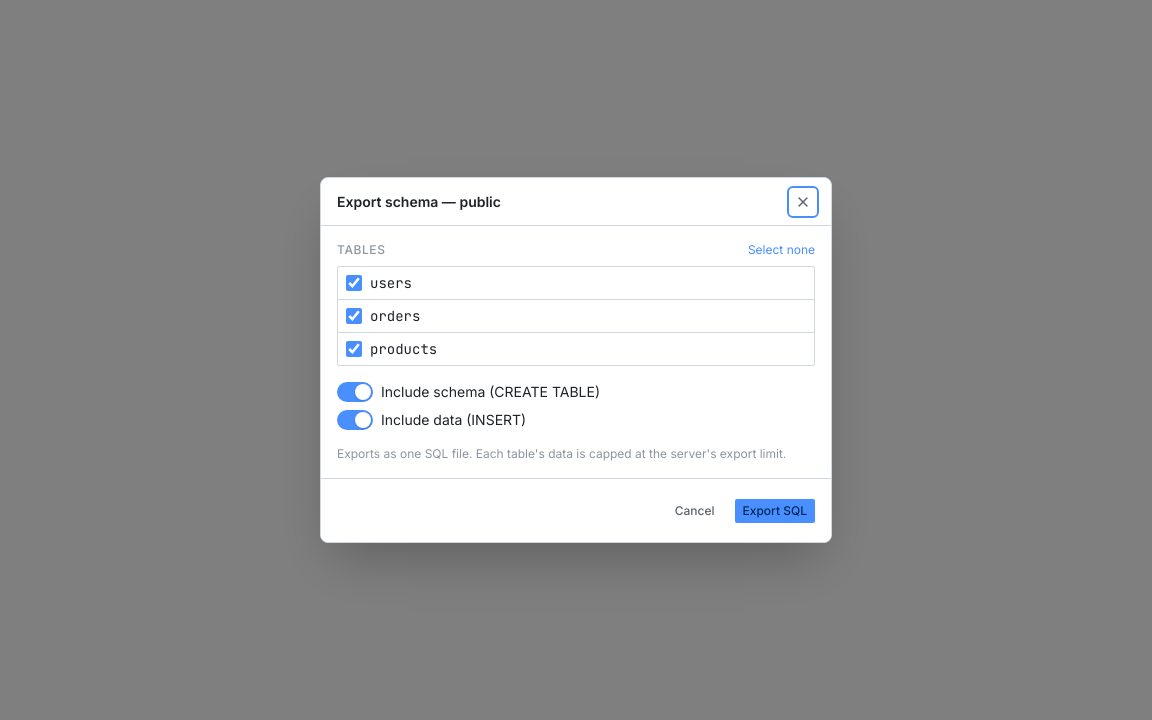
SchemaExportDialog › select-none then re-selecting all toggles the whole list
The width and height of the screenshot is (1152, 720).
Click the button "Select none" at (781, 250), box [748,242,815,258]
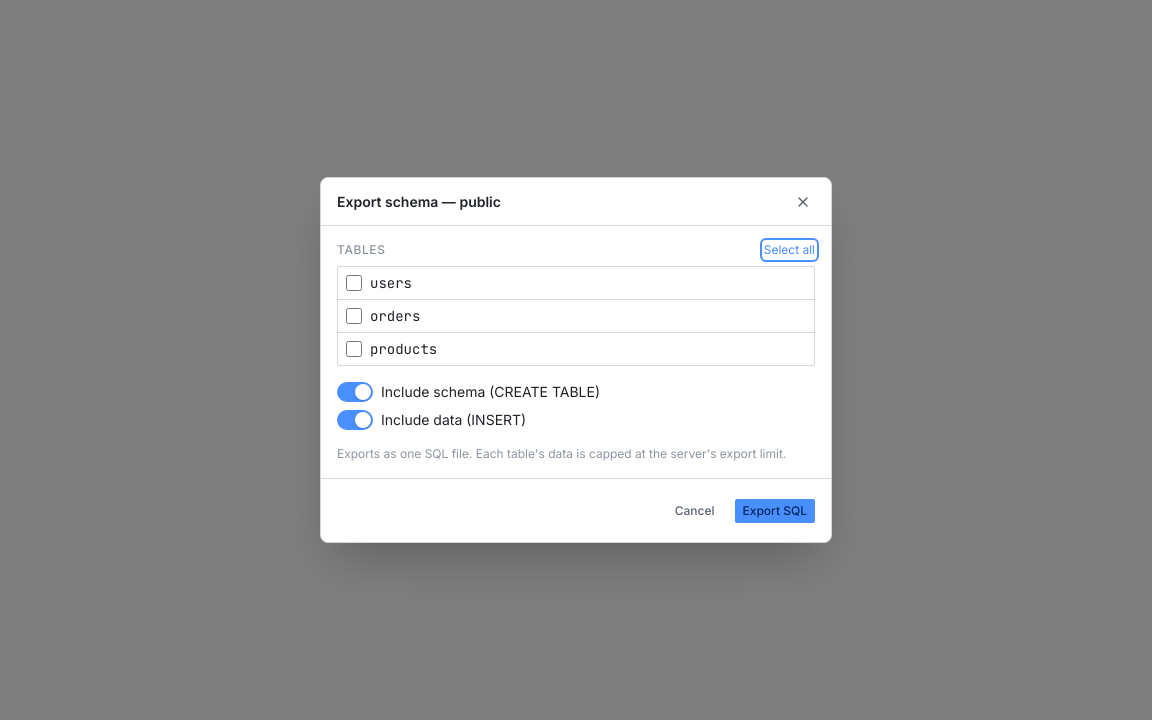
// With nothing selected, export is blocked with an inline error (mutate not called).
Click the button "Export SQL" at (775, 510), box [734,498,815,522]
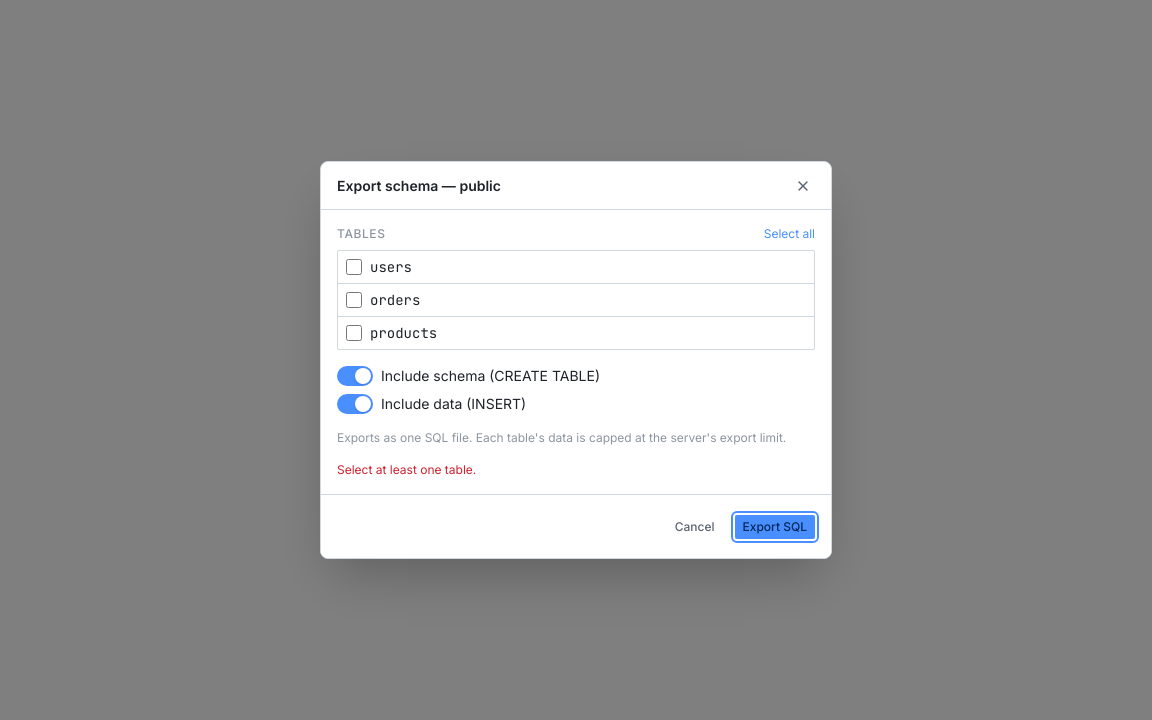
Now the text "Select at least one table." is shown, box [337,462,476,477]
